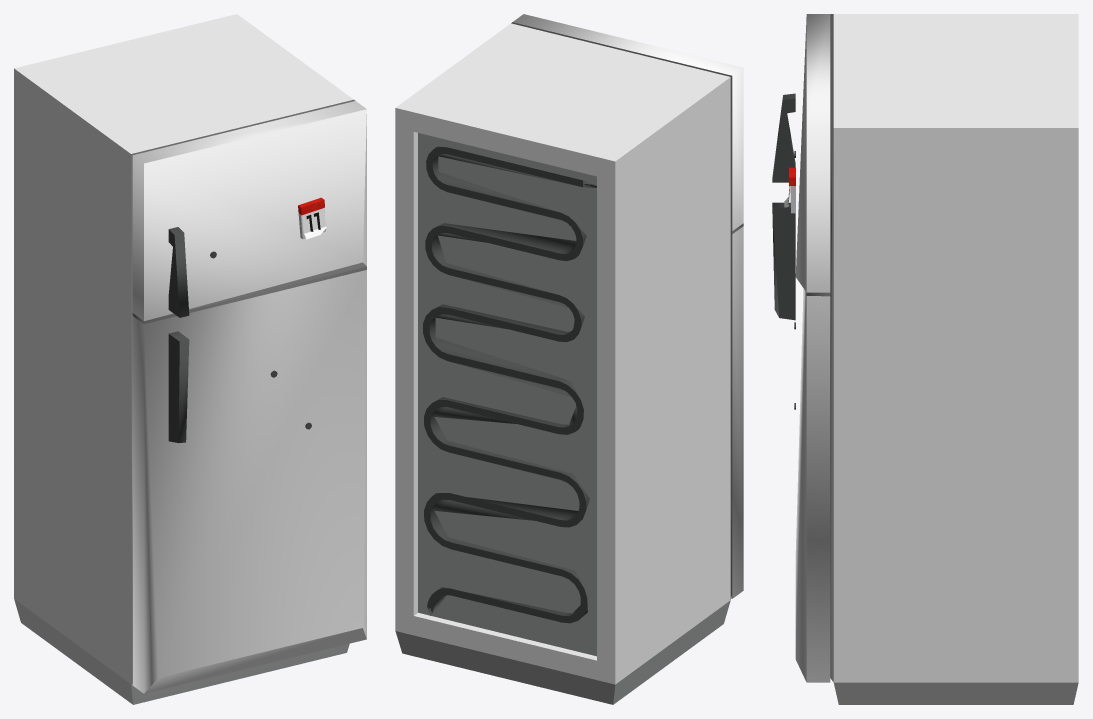
File: Refrigerator.glb
3 views of the same model, side by side, from view 1: azimuth 30°, elevation 25°; view 2: azimuth 150°, elevation 25°; view 3: azimuth 270°, elevation 25° (orthographic). The views are drawn at different scales.
Parts seen in each view (by area): view 1: Obj3d66-12376664-2-995; view 2: Obj3d66-12376664-2-995; view 3: Obj3d66-12376664-2-995.
Boxes of the visible parts, x1,y1,x2,y2 form: Obj3d66-12376664-2-995: [14, 14, 366, 704]; Obj3d66-12376664-2-995: [395, 14, 743, 704]; Obj3d66-12376664-2-995: [772, 14, 1078, 704].
Size of the model in its own units: 0.396 by 0.9399 by 0.4503.
Materials: 1 (1 with a texture image).
